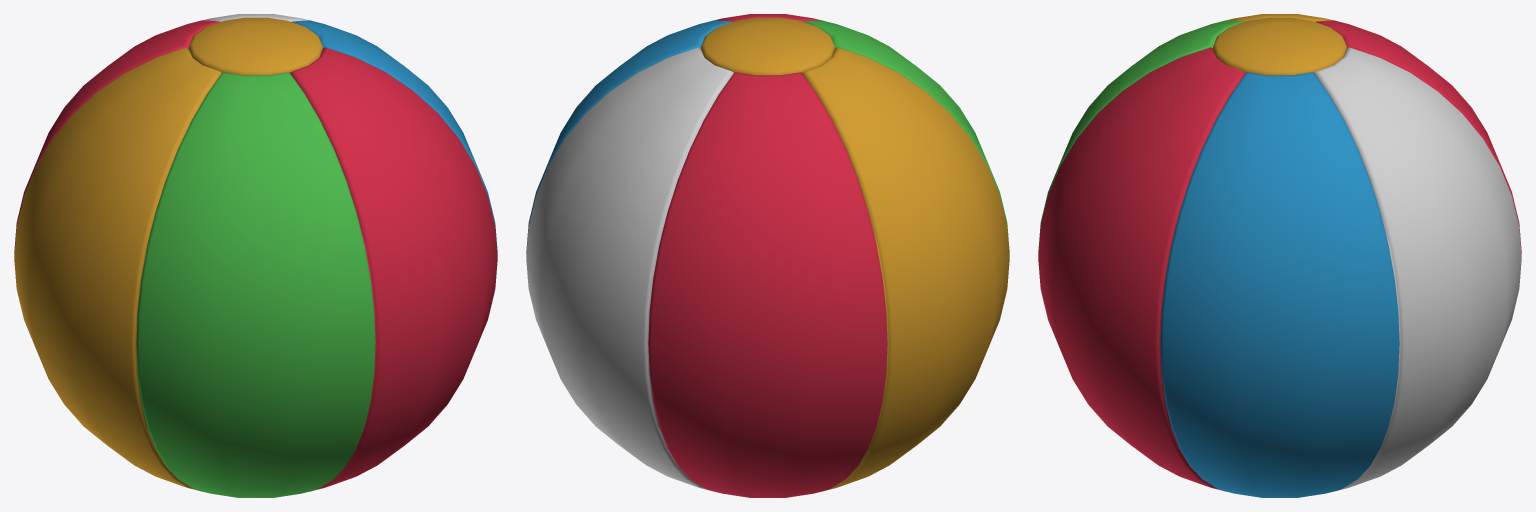
Rendered from beachBall.fbx.
3 views of the same model, side by side, from view 1: azimuth 30°, elevation 25°; view 2: azimuth 150°, elevation 25°; view 3: azimuth 270°, elevation 25° (orthographic).
Parts seen in each view (by area): view 1: ballBeachBall; view 2: ballBeachBall; view 3: ballBeachBall.
Boxes of the visible parts, bbox=[...] form: ballBeachBall: bbox=[14, 14, 497, 497]; ballBeachBall: bbox=[526, 14, 1009, 497]; ballBeachBall: bbox=[1038, 14, 1521, 497].
Bounding box in the file's own units: 0.9848 × 1 × 0.9965.
1 material, 1 textured.
